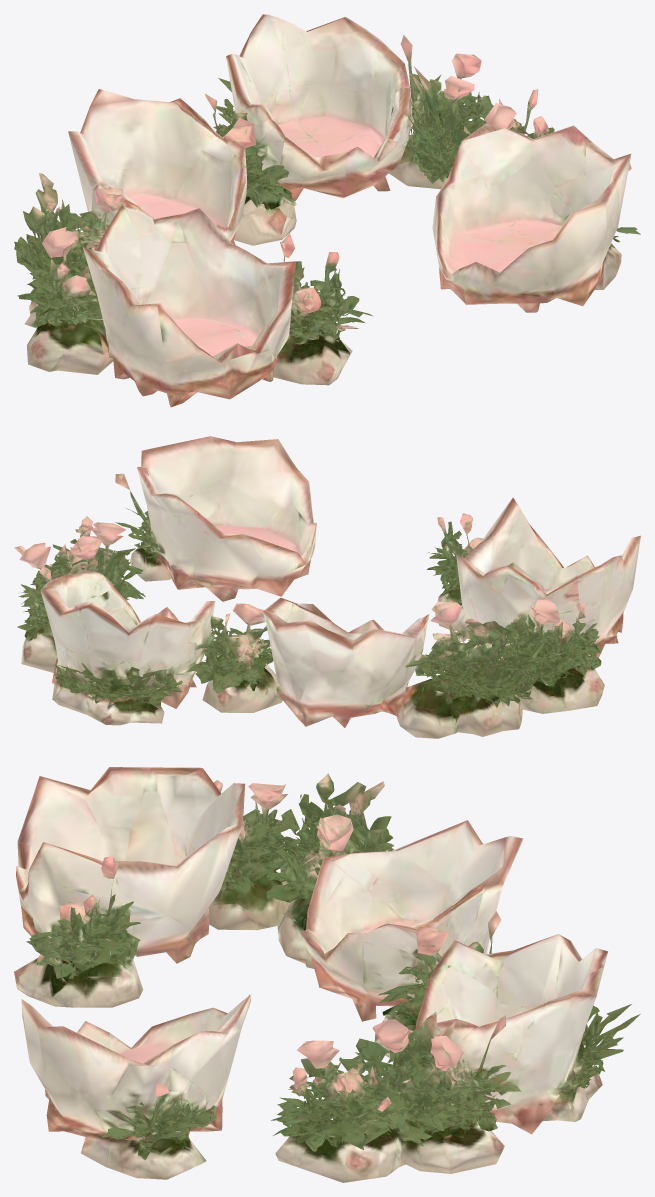
The model's file is petal-bench.glb.
3 views of the same model, one above another, from view 1: azimuth 30°, elevation 25°; view 2: azimuth 150°, elevation 25°; view 3: azimuth 270°, elevation 25° (orthographic). The views are drawn at different scales.
Visible parts, largest first — view 1: Mesh_0; view 2: Mesh_0; view 3: Mesh_0.
Boxes of the visible parts, <box> form: Mesh_0: <box>14,14,640,407</box>; Mesh_0: <box>14,436,640,738</box>; Mesh_0: <box>14,767,640,1182</box>.
Size of the model in its own units: 0.8554 by 0.1999 by 0.717.
1 material, 1 textured.
